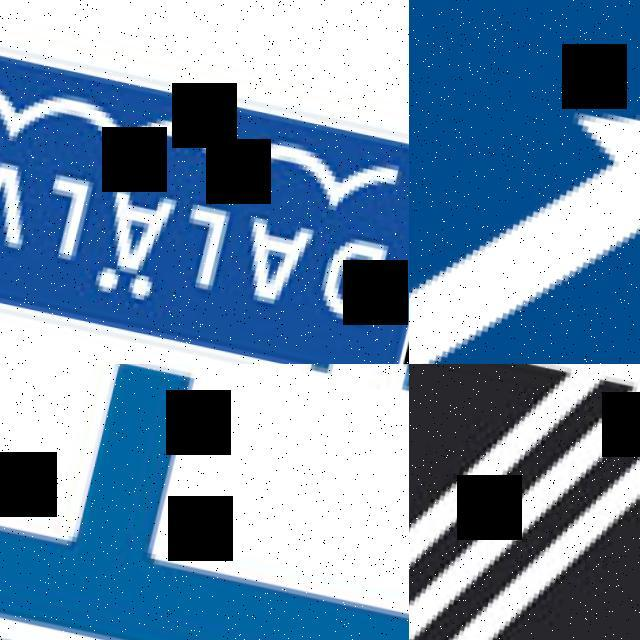101: (409, 364, 640, 640)
168: (0, 9, 409, 364)
69: (0, 364, 409, 640)
Keep left: (409, 0, 640, 364)
